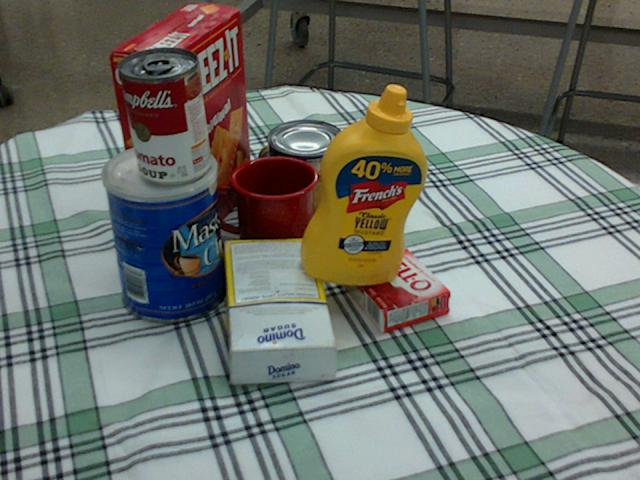cracker_box: (108, 3, 250, 251)
gelatin_box: (342, 247, 449, 333)
master_chef_can: (100, 142, 226, 323)
mug: (207, 154, 317, 259)
mustard_bottle: (300, 83, 426, 284)
potted_meat_can: (254, 139, 345, 215)
sugar_box: (224, 237, 339, 383)
tomato_soup_can: (119, 46, 210, 183)
tuna_fish_can: (266, 120, 343, 180)
